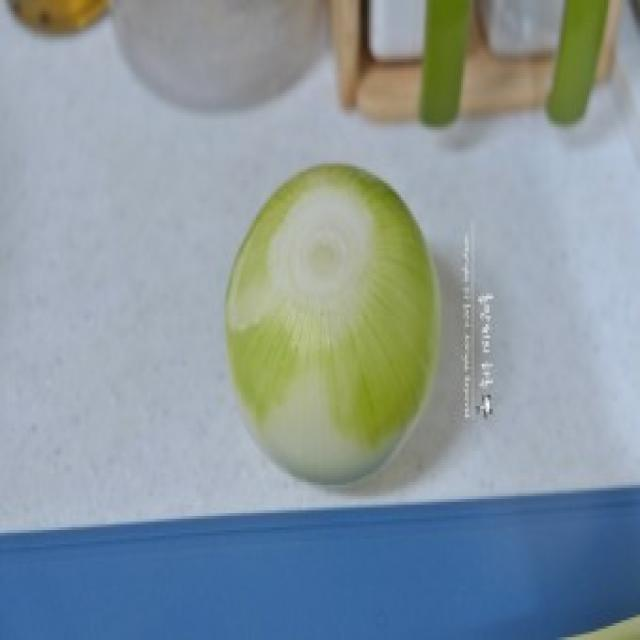onion: (209, 137, 467, 504)
